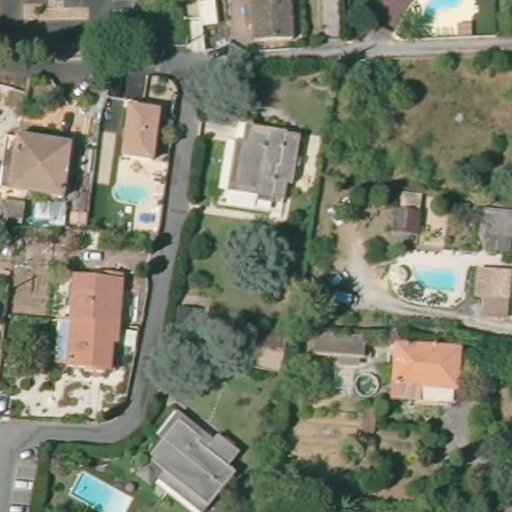pool: (68, 467, 137, 512), (411, 260, 462, 300), (108, 180, 159, 212), (417, 1, 475, 23)
